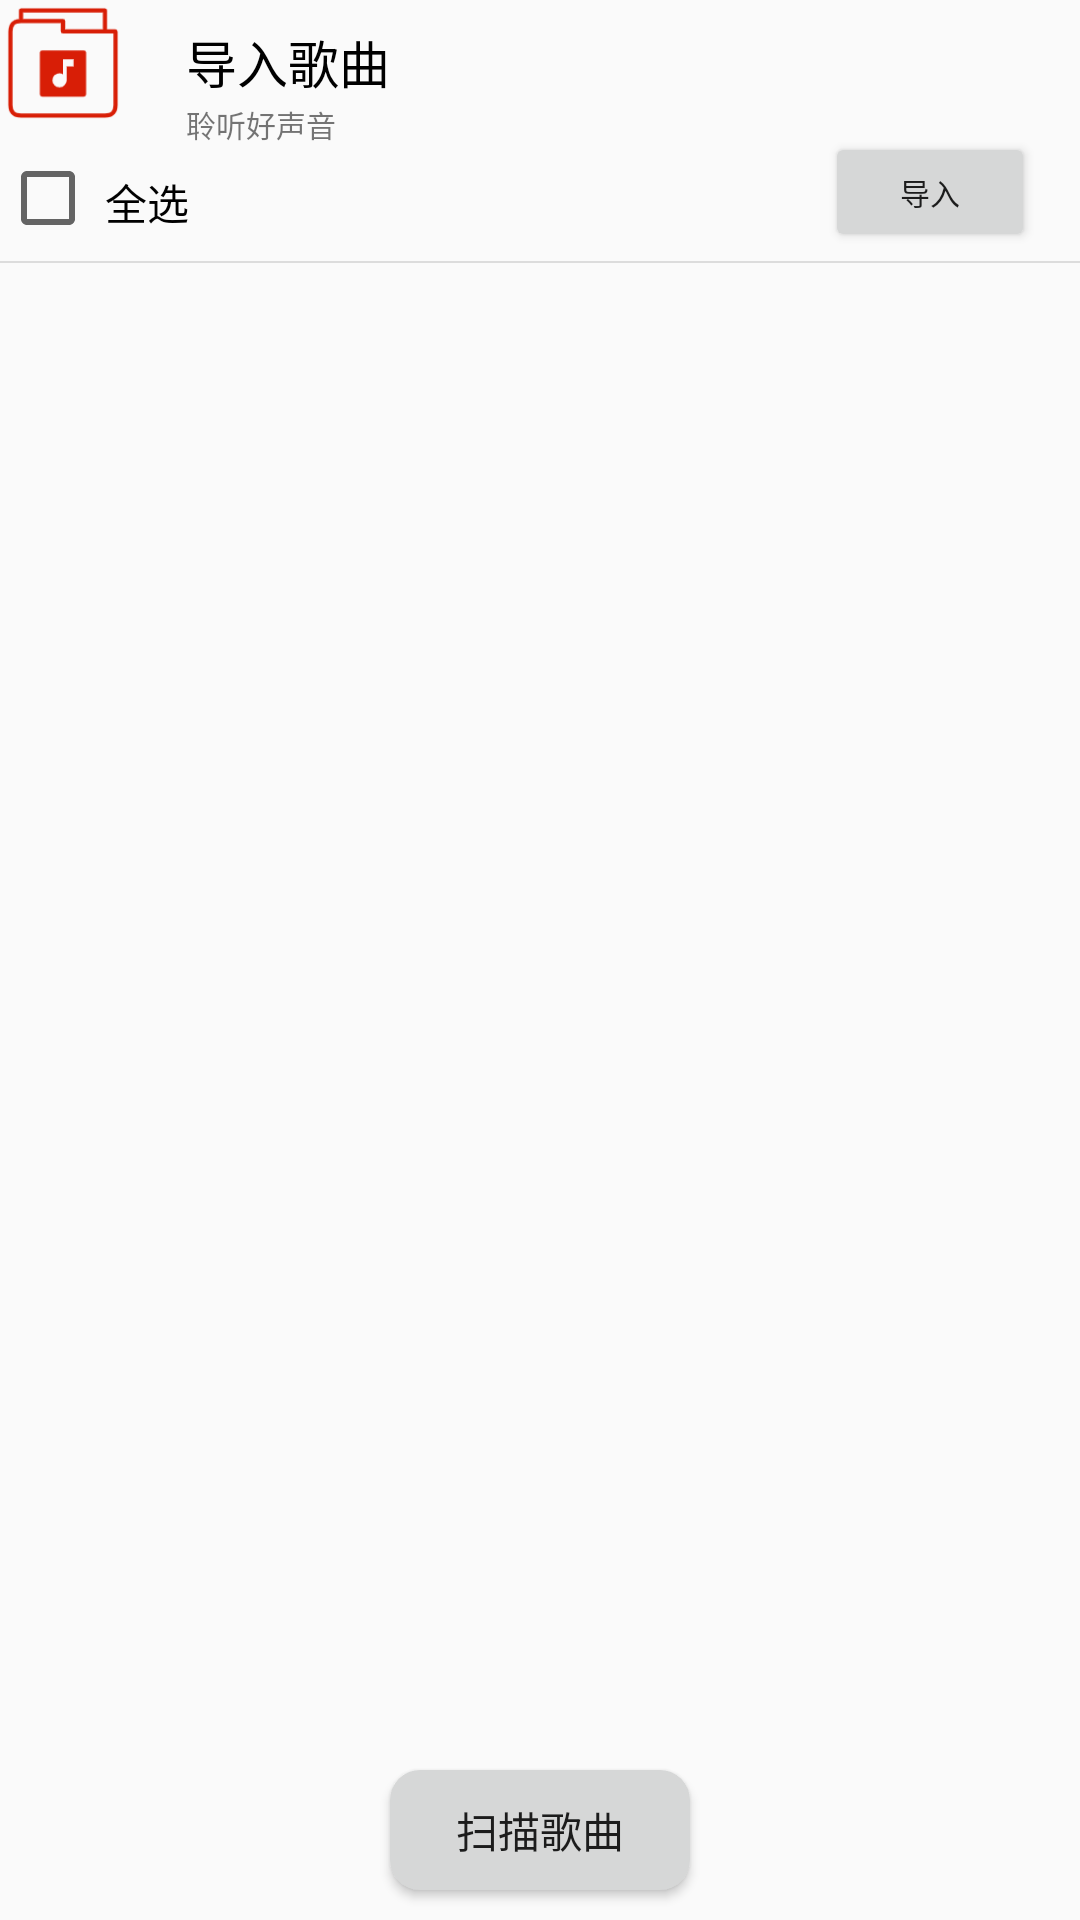

Locate icon controls on the screen. Image size 1080×1920, boxes as {"x1": x1, "y1": y1, "x2": x2, "y2": y2}.
music import: {"x1": 8, "y1": 8, "x2": 118, "y2": 118}
